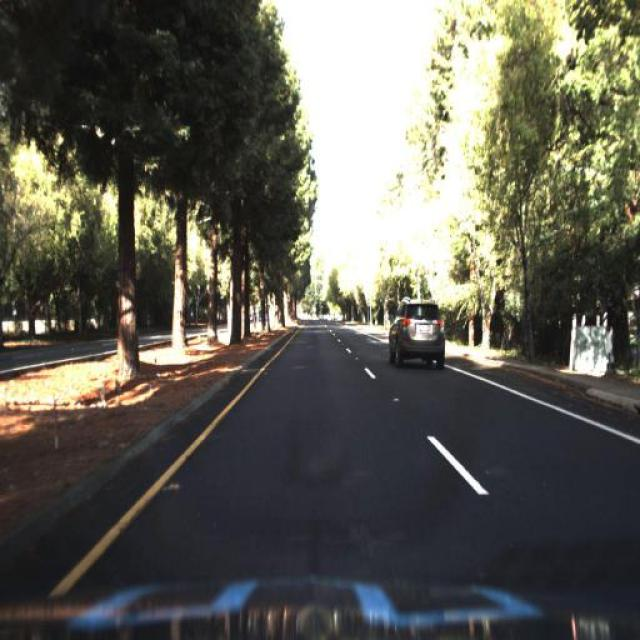car: (386, 298, 446, 372)
